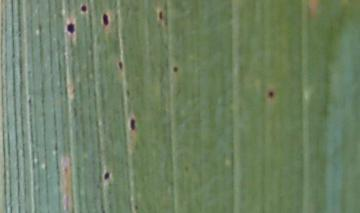tarspot: (66, 22, 76, 34), (102, 13, 109, 27), (130, 116, 136, 132), (267, 89, 275, 99), (117, 60, 124, 71), (80, 4, 88, 13), (157, 10, 164, 20), (103, 171, 110, 180), (172, 66, 179, 73)
